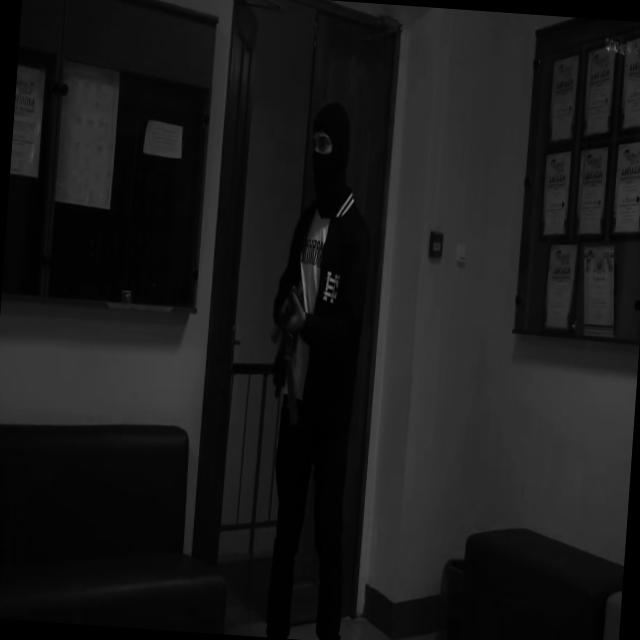gun: (268, 274, 304, 355)
person with a gun: (248, 99, 380, 640)
